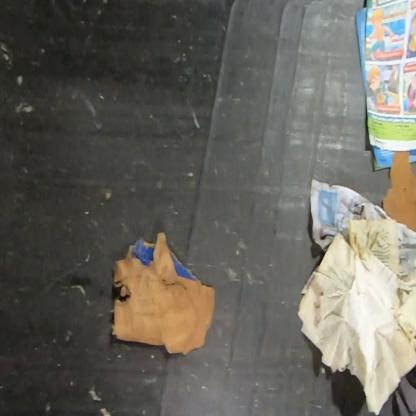cardboard: (110, 231, 216, 358)
